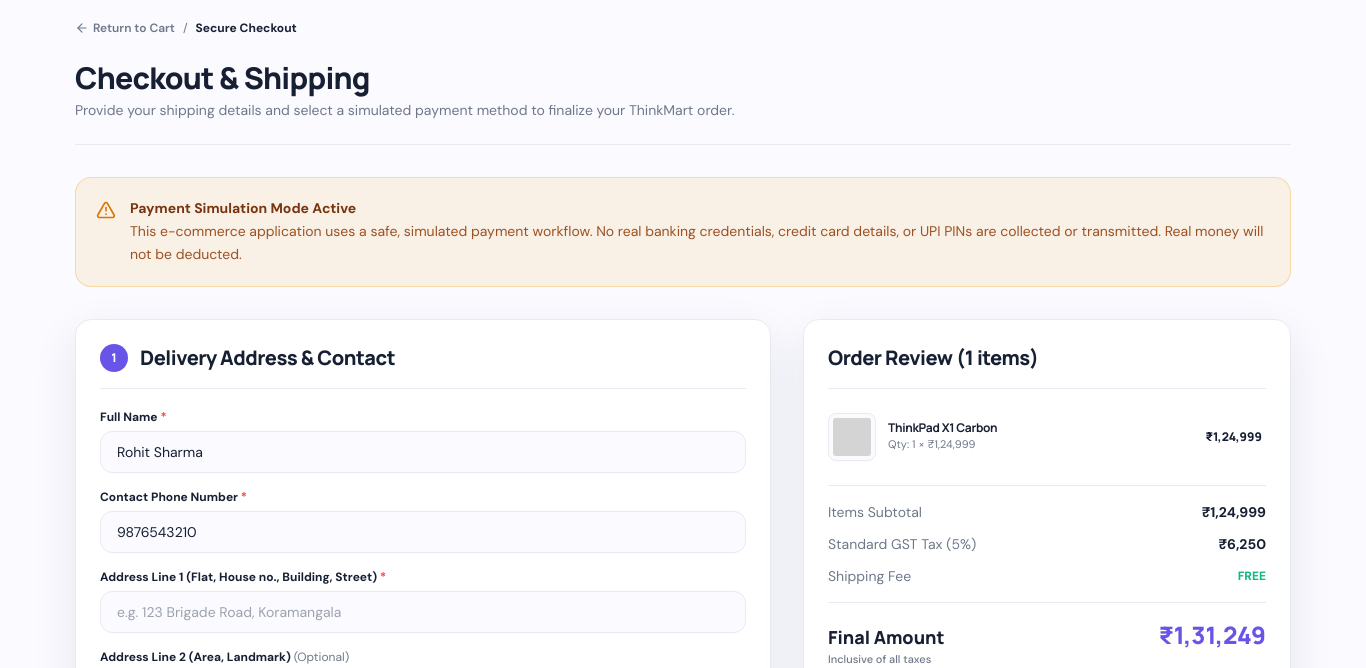
Test case: CheckoutPage › validates required fields and shows validation messages when fields are missing
Expected: the heading "Delivery Address & Contact" is shown, x1=140 y1=344 x2=395 y2=372
// Clear prefilled name
Clear the field labelled "Full Name *" at [423, 452], box x1=100 y1=430 x2=746 y2=472
(page scrolled)
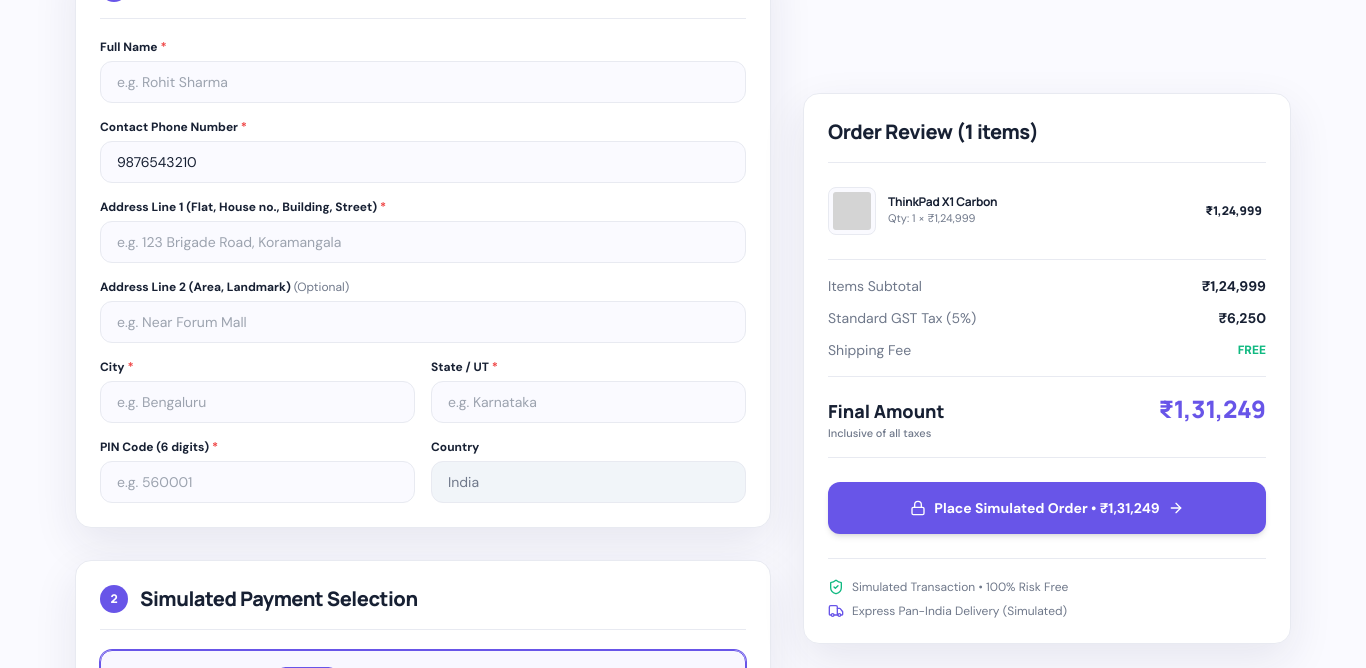
// Click submit button
Click the button "Place Simulated Order • ₹1,31,249".
click(1047, 508)  # box x1=828 y1=482 x2=1266 y2=534
(page scrolled)
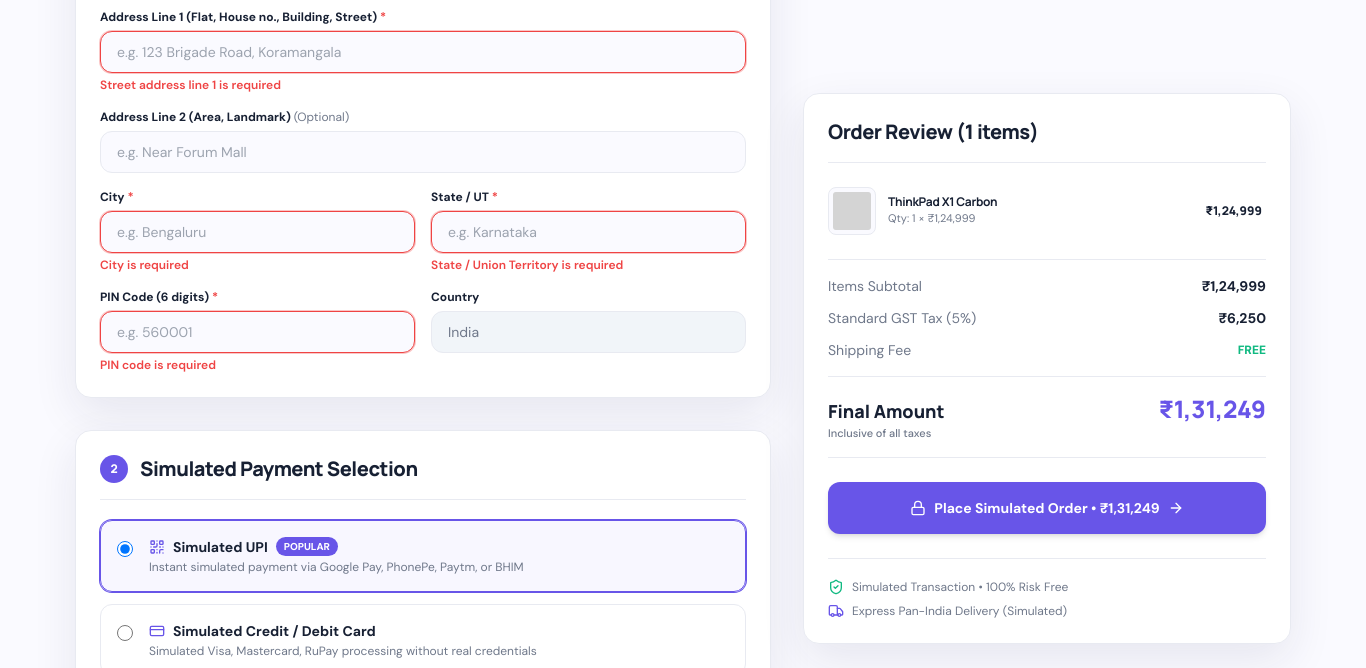
Expected: the text "Street address line 1 is required" is shown, x1=100 y1=76 x2=281 y2=92
Expected: the text "City is required" is shown, x1=100 y1=256 x2=189 y2=272
Expected: the text "State / Union Territory is required" is shown, x1=431 y1=256 x2=623 y2=272
